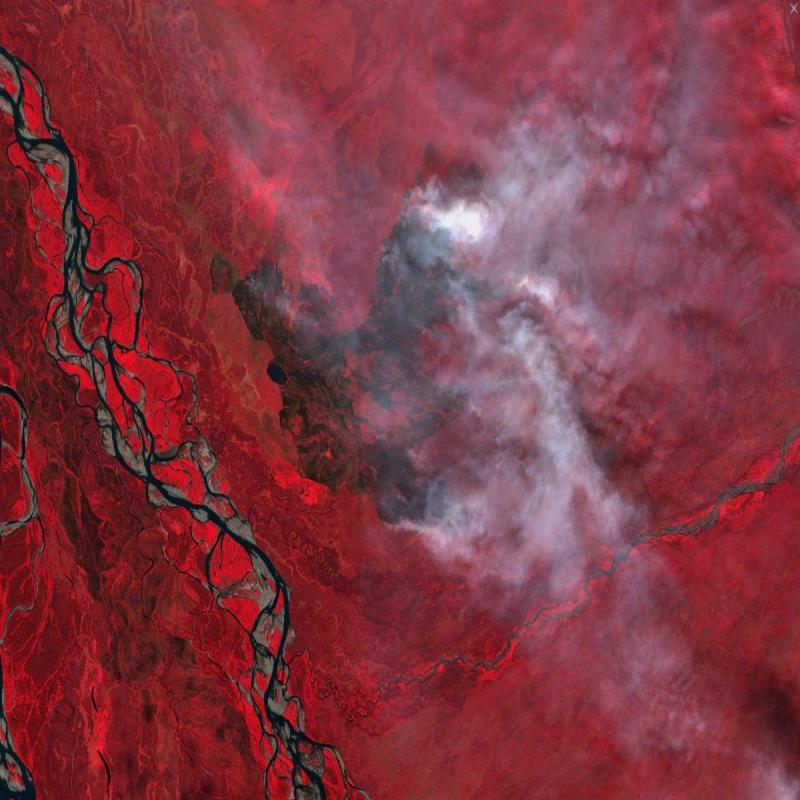fire: (363, 176, 526, 316), (376, 439, 456, 558), (237, 251, 300, 340), (447, 369, 490, 429)
